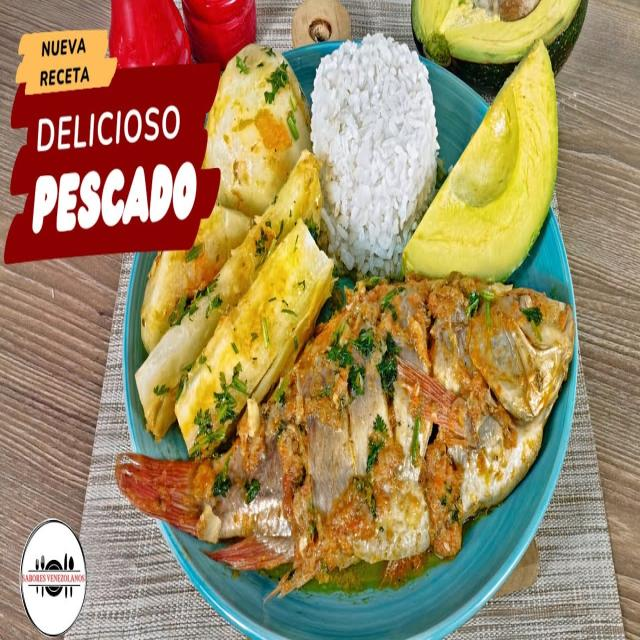aguacate: (407, 41, 585, 291)
arroz: (304, 28, 441, 280)
pescado: (115, 276, 578, 562)
yuca: (129, 237, 339, 436)
